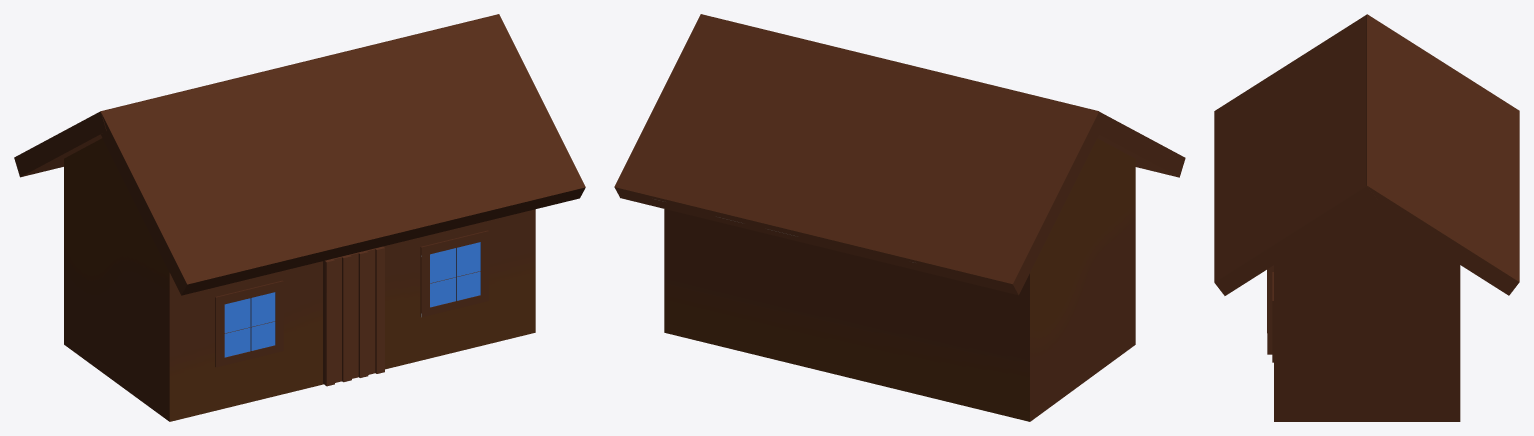
Rendered from domMaly.dae.
3 views of the same model, side by side, from view 1: azimuth 30°, elevation 25°; view 2: azimuth 150°, elevation 25°; view 3: azimuth 270°, elevation 25° (orthographic). The views are drawn at different scales.
Parts seen in each view (by area): view 1: Dach, Dom, Drzwi, Szyba.001, Framuga.001, Dach.001; view 2: Dach.001, Dom, Dach; view 3: Dom, Dach, Dach.001, Drzwi.
Boxes of the visible parts, x1=… form: Dach: x1=101, y1=15, x2=585, y2=295; Dom: x1=64, y1=138, x2=535, y2=421; Drzwi: x1=323, y1=246, x2=384, y2=386; Szyba.001: x1=224, y1=242, x2=480, y2=357; Framuga.001: x1=215, y1=230, x2=488, y2=367; Dach.001: x1=14, y1=14, x2=499, y2=177; Dach.001: x1=614, y1=14, x2=1105, y2=295; Dom: x1=664, y1=138, x2=1135, y2=421; Dach: x1=1097, y1=112, x2=1185, y2=177; Dom: x1=1274, y1=206, x2=1460, y2=421; Dach: x1=1214, y1=15, x2=1377, y2=295; Dach.001: x1=1366, y1=14, x2=1519, y2=295; Drzwi: x1=1267, y1=265, x2=1273, y2=354.
Bounding box in the file's own units: 4.36 × 3.28 × 2.89.
